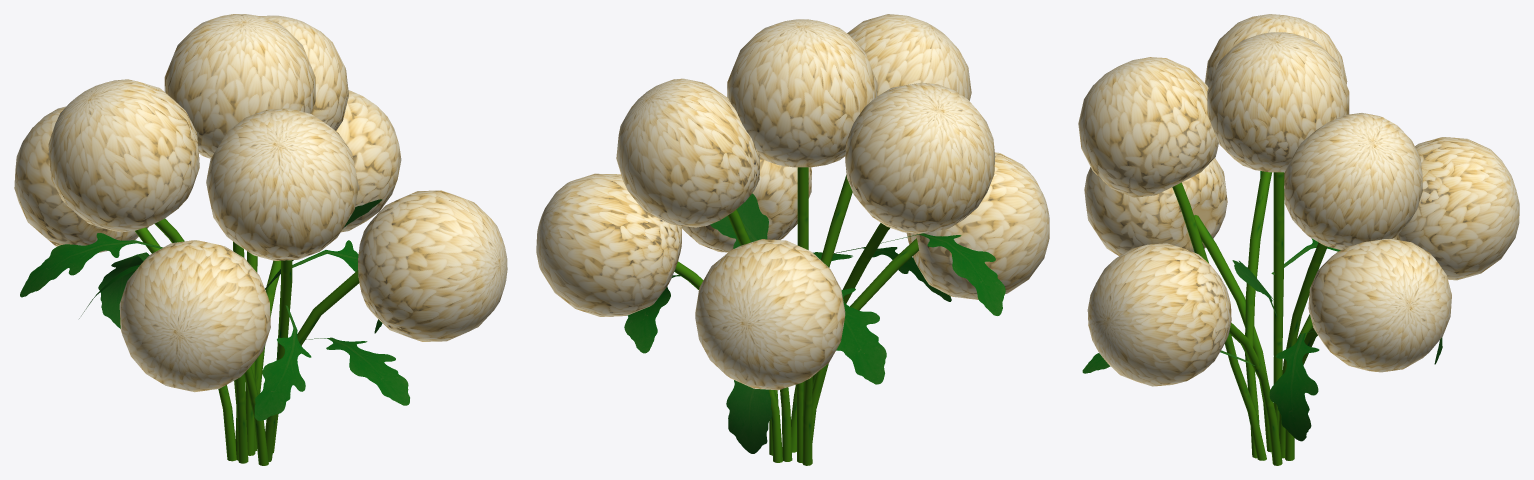
The model's file is DecorFlowerChr01_2.FBX.
3 renders of one model, left to right at view 1: azimuth 30°, elevation 25°; view 2: azimuth 150°, elevation 25°; view 3: azimuth 270°, elevation 25°, orthographic. The views are drawn at different scales.
Parts seen in each view (by area): view 1: DecorFlowerChr01_2; view 2: DecorFlowerChr01_2; view 3: DecorFlowerChr01_2.
Part boxes in pixels (<box>): DecorFlowerChr01_2: <box>14,14,507,465</box>; DecorFlowerChr01_2: <box>536,14,1049,465</box>; DecorFlowerChr01_2: <box>1078,14,1519,465</box>.
Size of what is drawn, in the model's own units: 0.5041 by 0.5026 by 0.4895.
